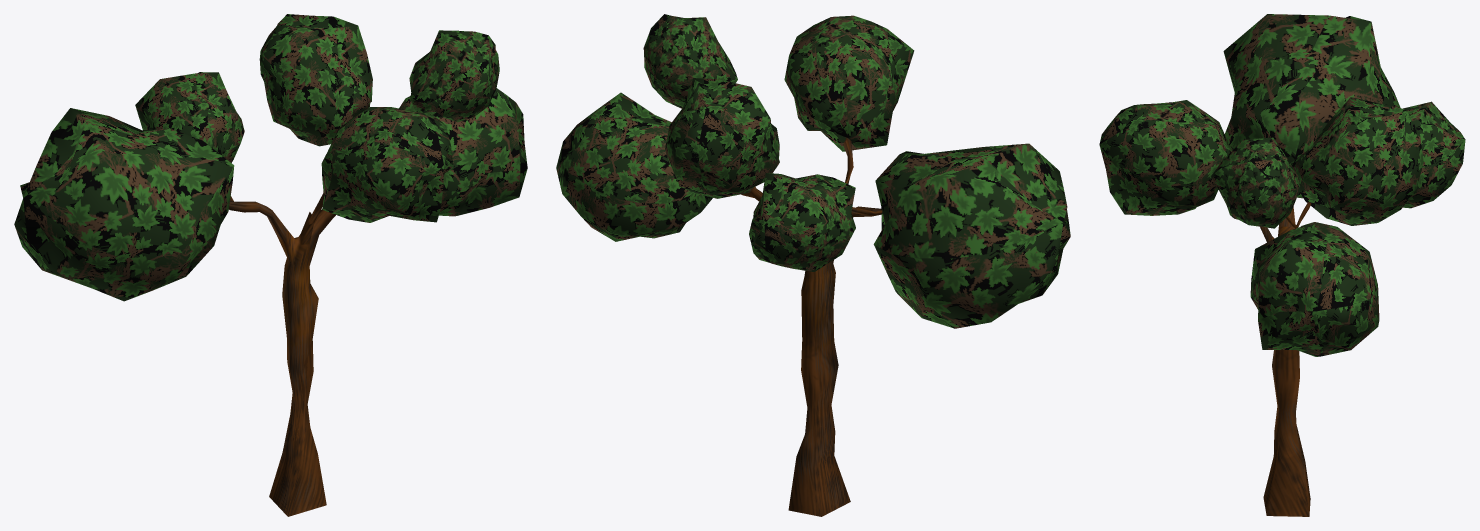
File: ArvoreComun1.fbx
3 renders of one model, left to right at view 1: azimuth 30°, elevation 25°; view 2: azimuth 150°, elevation 25°; view 3: azimuth 270°, elevation 25°, orthographic. The views are drawn at different scales.
Parts seen in each view (by area): view 1: Tree; view 2: Tree; view 3: Tree.
Part boxes in pixels (<box>): Tree: <box>14,14,527,516</box>; Tree: <box>556,14,1070,516</box>; Tree: <box>1099,14,1465,516</box>.
Bounding box in the file's own units: 2317 × 1967 × 1499.
